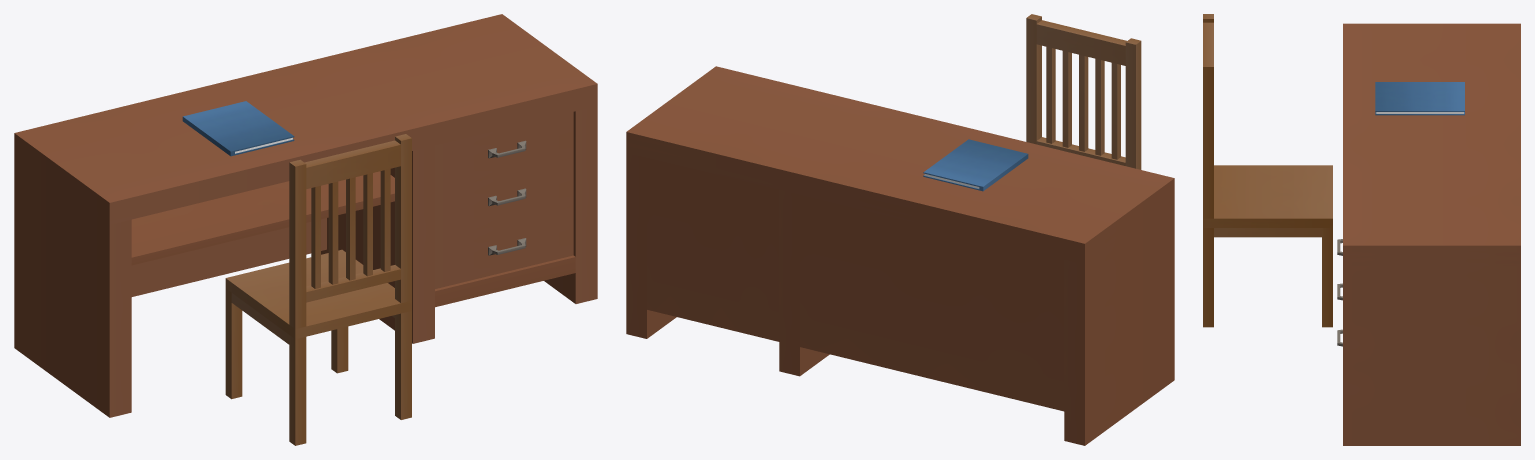
File: SM_Desk&Chair.fbx
The picture shows the model from 3 angles, left to right: view 1: azimuth 30°, elevation 25°; view 2: azimuth 150°, elevation 25°; view 3: azimuth 270°, elevation 25°; orthographic projection. The views are drawn at different scales.
Parts seen in each view (by area): view 1: Cube.004, Cube.003, Cube.015, Cube.016, Cube.021, Cube; view 2: Cube.004, Cube.003, Cube; view 3: Cube.004, Cube.003, Cube.
Part boxes in pixels (<box>): Cube.004: <box>14,14,597,417</box>; Cube.003: <box>225,134,411,445</box>; Cube.015: <box>435,158,573,240</box>; Cube.016: <box>435,207,573,288</box>; Cube.021: <box>435,112,573,191</box>; Cube: <box>182,101,294,156</box>; Cube.004: <box>626,66,1174,445</box>; Cube.003: <box>1026,14,1141,169</box>; Cube: <box>923,139,1028,191</box>; Cube.004: <box>1343,23,1520,445</box>; Cube.003: <box>1203,14,1332,327</box>; Cube: <box>1375,82,1464,115</box>.
Bounding box in the file's own units: 1.66 × 0.9106 × 1.01.
